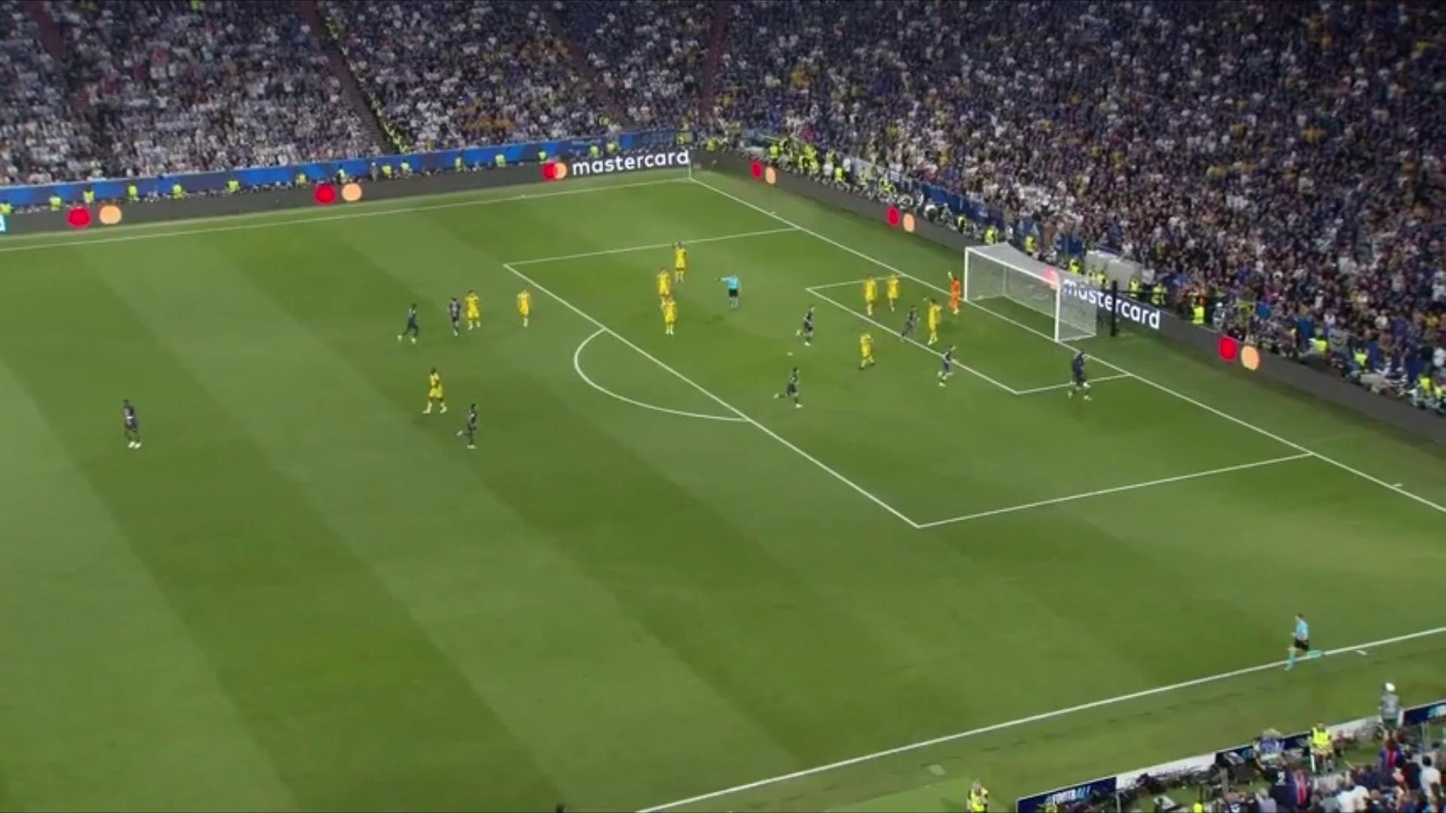player_A: (774, 365, 801, 407), (1069, 350, 1091, 397), (121, 399, 142, 448), (454, 400, 475, 446), (935, 345, 958, 386), (398, 301, 420, 343), (796, 306, 816, 346), (899, 306, 919, 340), (447, 296, 462, 337)
player_B: (422, 367, 447, 416), (924, 299, 942, 344), (463, 290, 482, 331), (661, 297, 677, 336), (673, 242, 688, 283), (859, 332, 875, 370), (862, 276, 877, 316), (516, 288, 531, 327), (655, 268, 671, 303), (885, 274, 899, 312)
player_B_goal_keeper: (946, 271, 961, 314)
referee: (1282, 612, 1310, 671), (718, 273, 741, 311)
